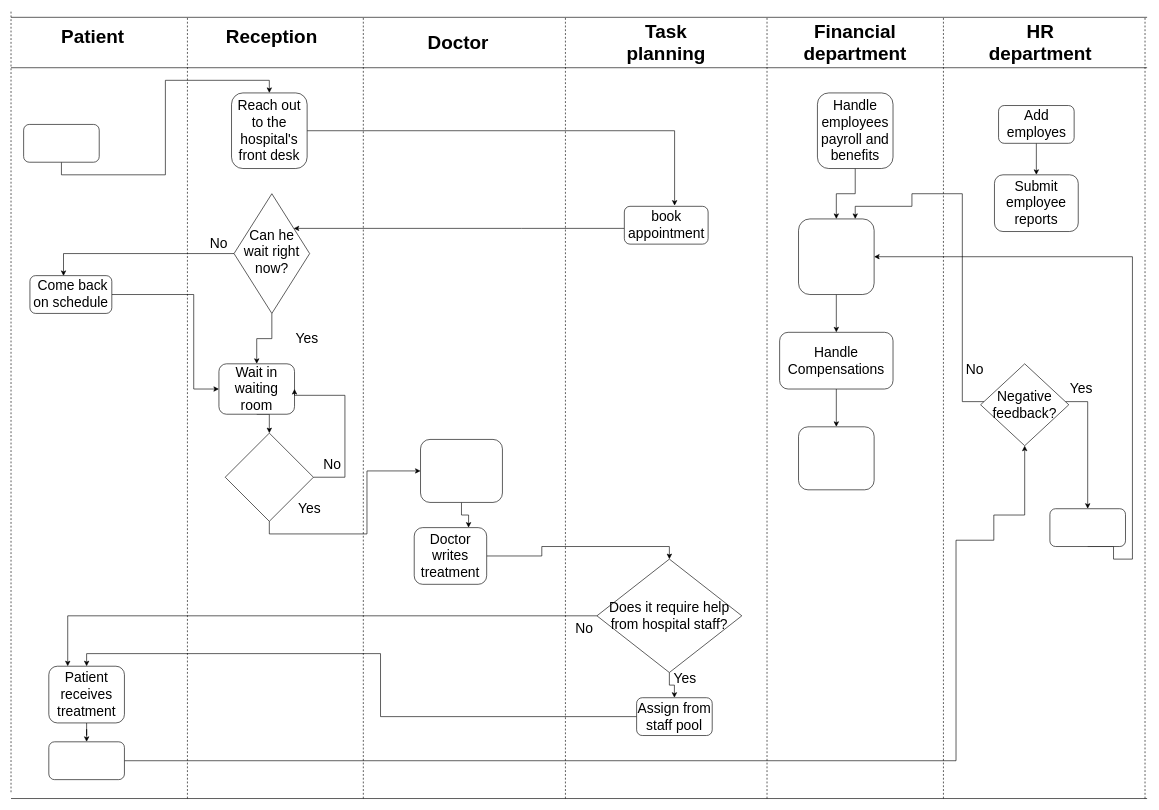
Some shapes in this 1159 by 810 pixel diagram are drawn without their labels. Each missing label, with the box of its shape:
Did his turn come yet?: (225, 432, 313, 521)
Generate financial reports: (798, 426, 874, 490)
Go through with examination: (420, 439, 502, 502)
Handle complaints: (1049, 508, 1125, 547)
Handle deduction and rewards: (798, 218, 874, 295)
Patient feels ill: (23, 124, 99, 162)
Submit review: (48, 741, 124, 780)
